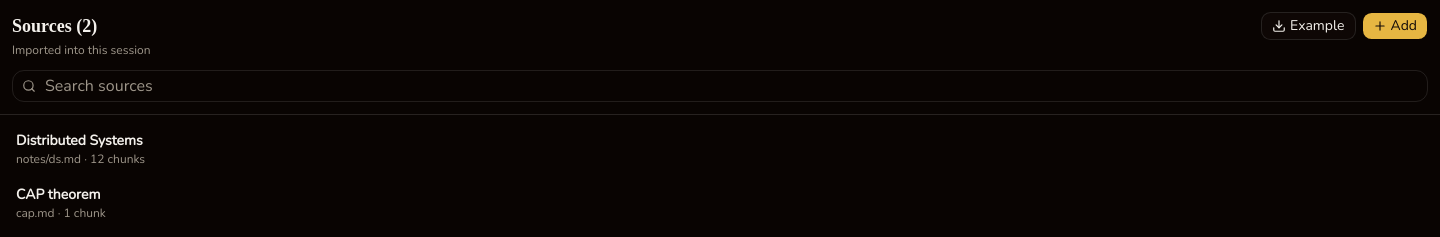
Test case: StudySourcesPanel › matches the search against the path too
Expected: the text "Distributed Systems" is shown, [16,131,143,150]
When searching for a path fragment
Type "notes/ds" into the field with placeholder "Search sources".
click(720, 86); type("notes/ds")  # box [12,70,1428,102]
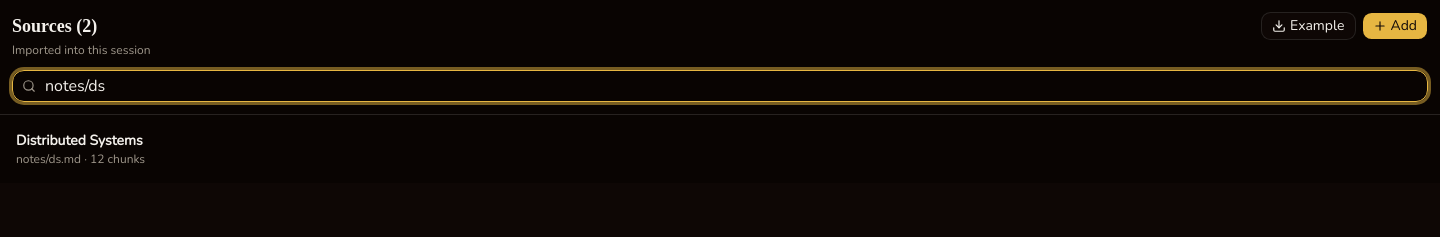
Expected: the text "Distributed Systems" is shown, [16,131,143,150]
Expected: the button "CAP theorem" is gone
